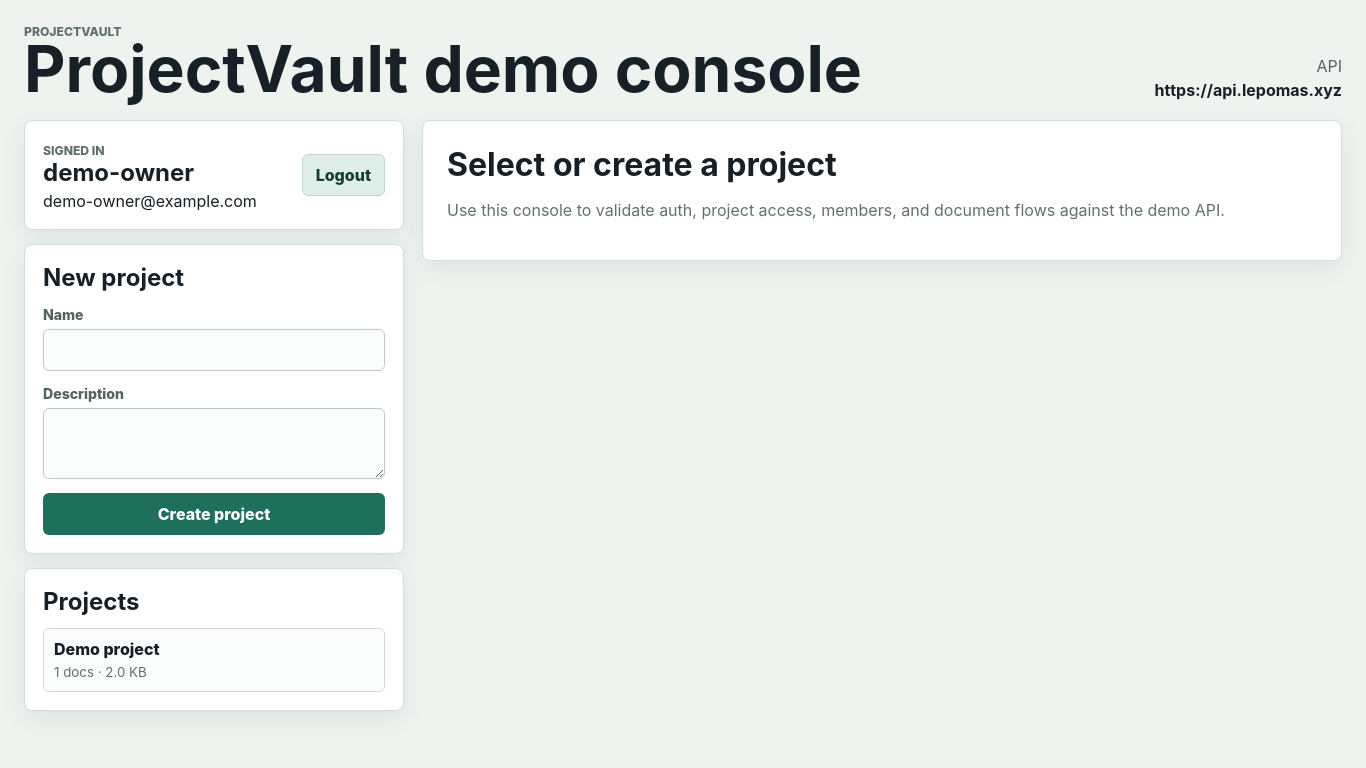
App › creates a project, loads details, and renders members and documents
Check: the text "demo-owner@example.com" is shown, box [43, 191, 257, 211]
In the field labelled "Name": (214, 350) [43, 329, 385, 371], type "Demo project"
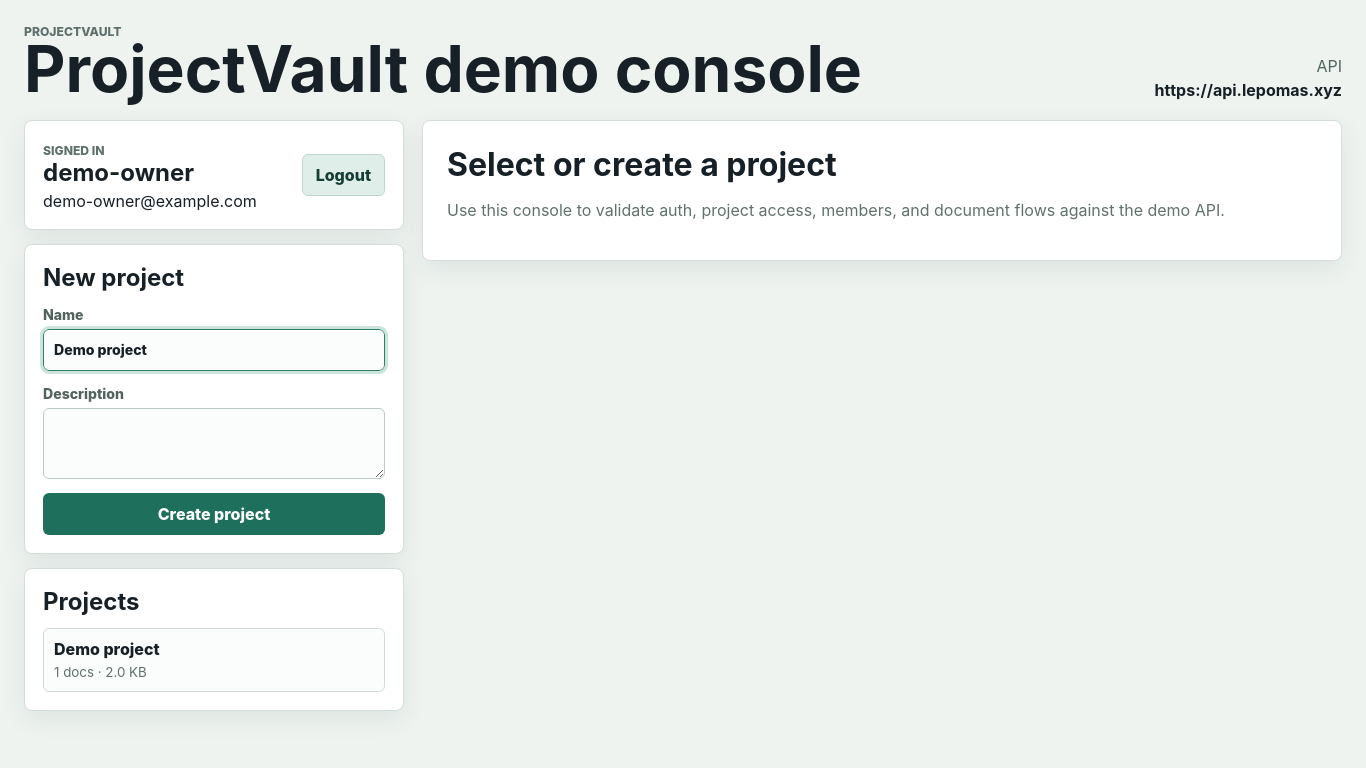
In the text box labelled "Description": (214, 443) [43, 408, 385, 479], type "Controlled demo"
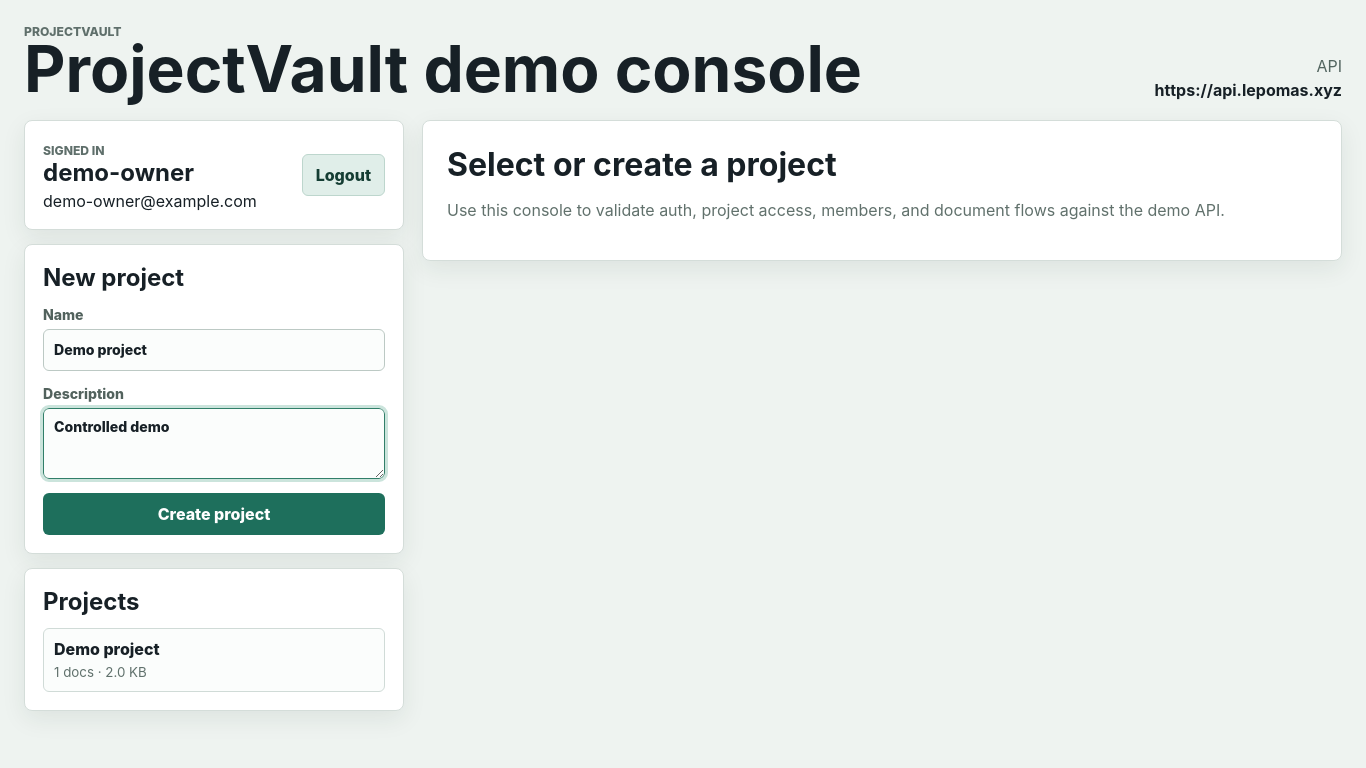
Click the button "Create project": click(214, 514) [43, 493, 385, 535]
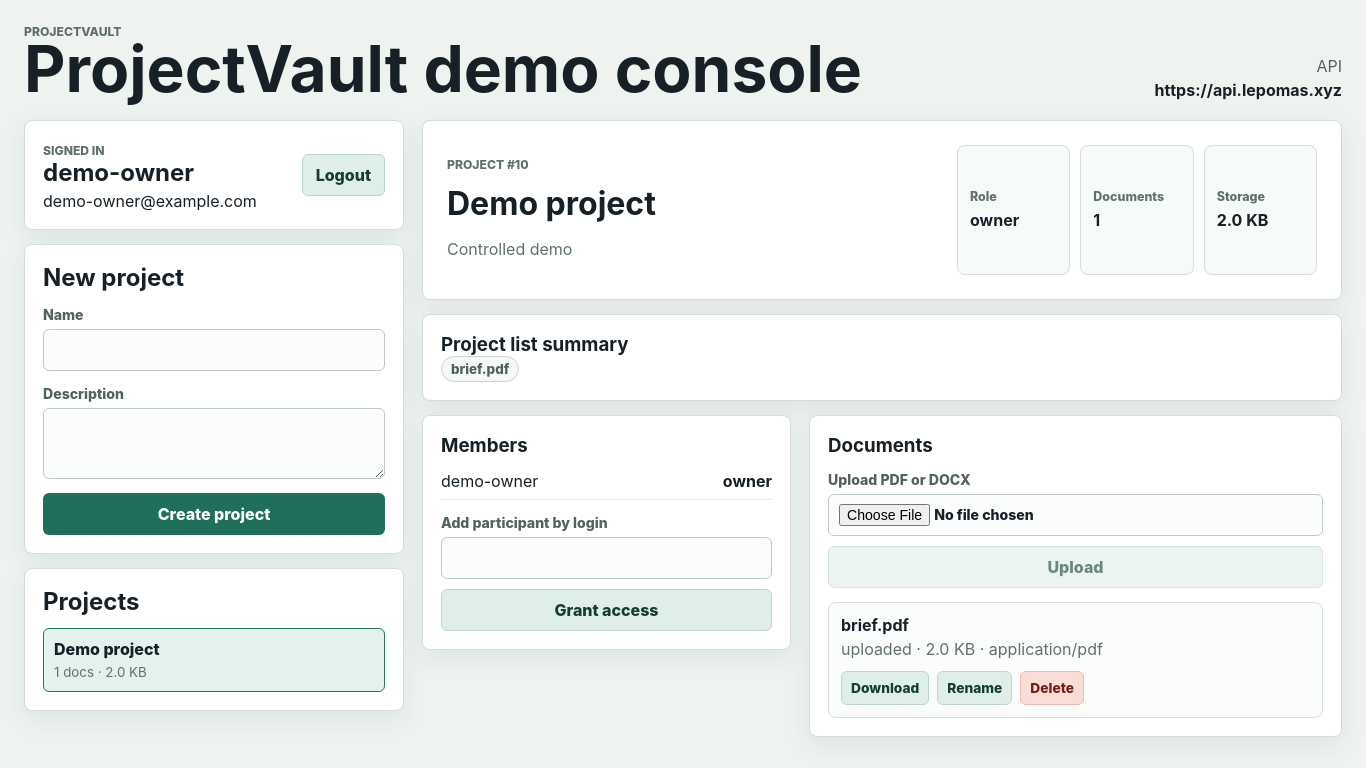
Check: the heading "Demo project" is shown, box [447, 184, 656, 223]
Check: the text "owner" below "Role" is shown, box [970, 210, 1019, 230]
Check: the text "brief.pdf" is shown, box [441, 356, 519, 382]
